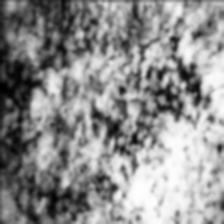Potentially Malignant Skin Tumors: (0, 5, 197, 222)
